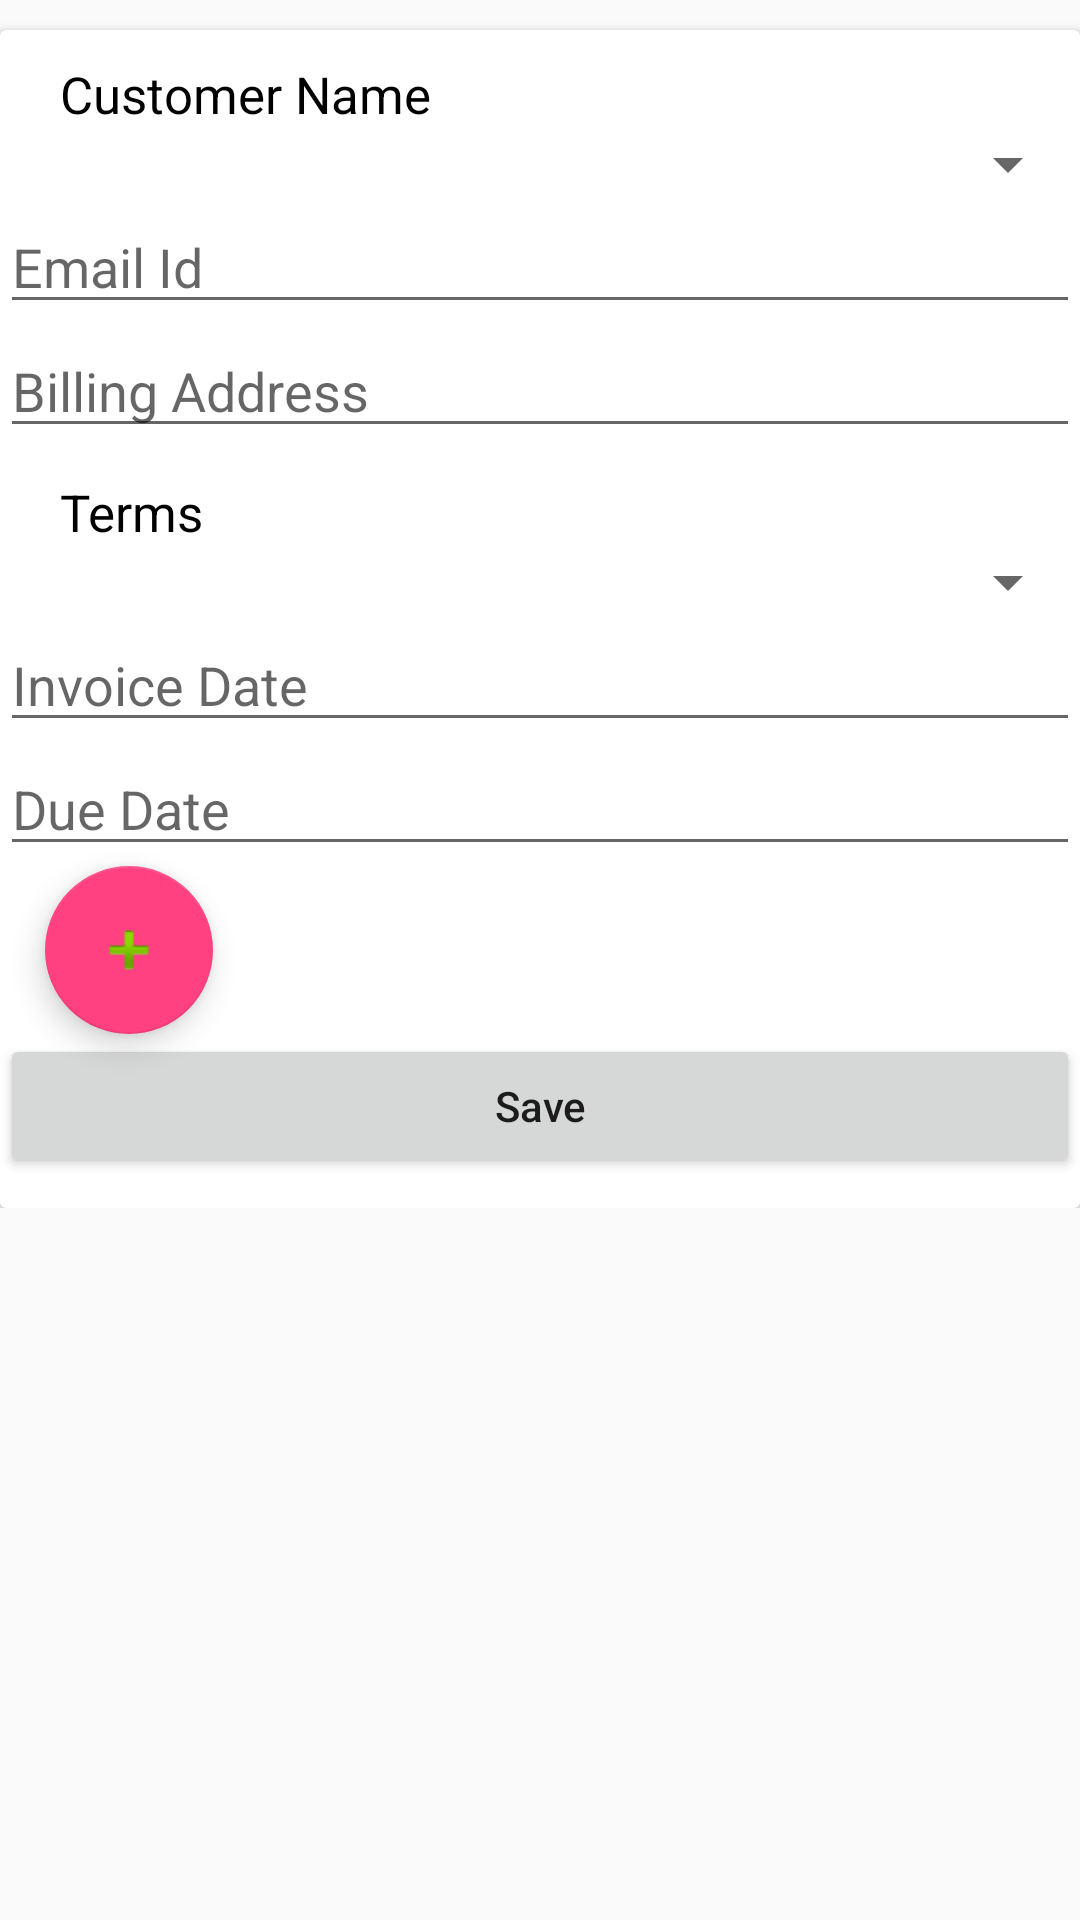

Icon bounding boxes for this 1080 x 1920 phone screenshot, format [x1, y1, x2, y2]:
add: [45, 866, 213, 1034]
